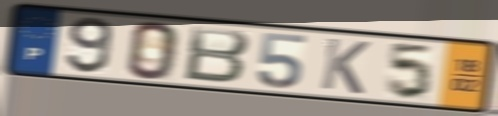0: (123, 20, 181, 82)
5: (381, 41, 437, 101), (254, 30, 308, 91)
9: (64, 16, 116, 75)
B: (181, 24, 252, 86)
K: (317, 35, 373, 97)
